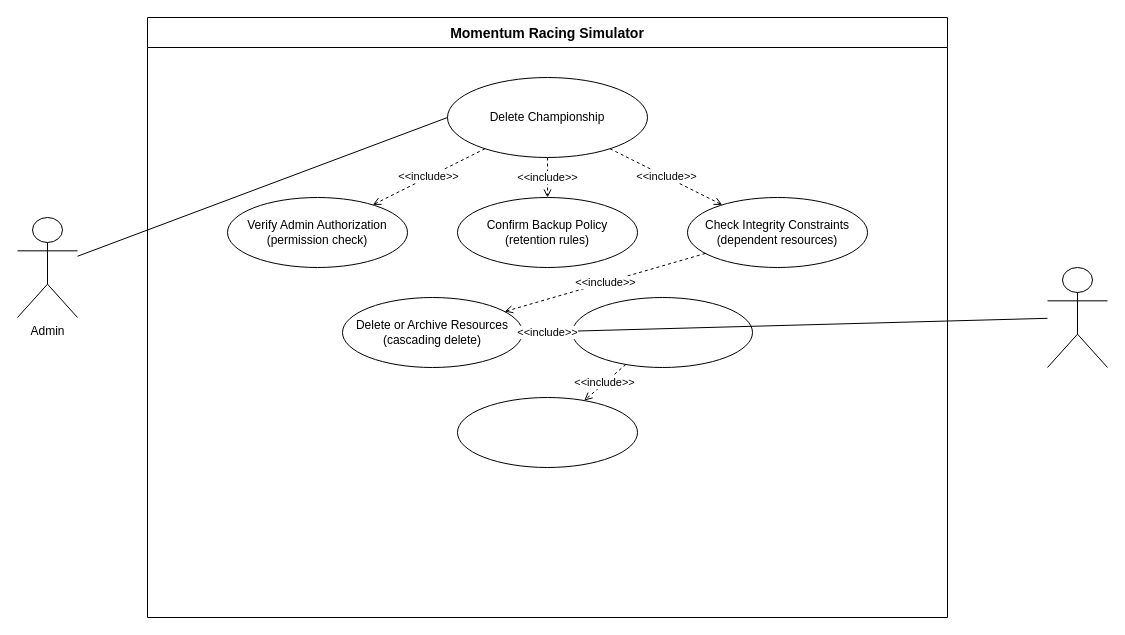
Image size: 1125x635. Some labels were removed from this diagram. The centre of each missing label's shape, as x and y in pixels:
"Database Manager" belongs at (1077,317).
"Persist with Transaction (atomic operation)" belongs at (662,332).
"Return Confirmation (200 OK or archived)" belongs at (547,432).
